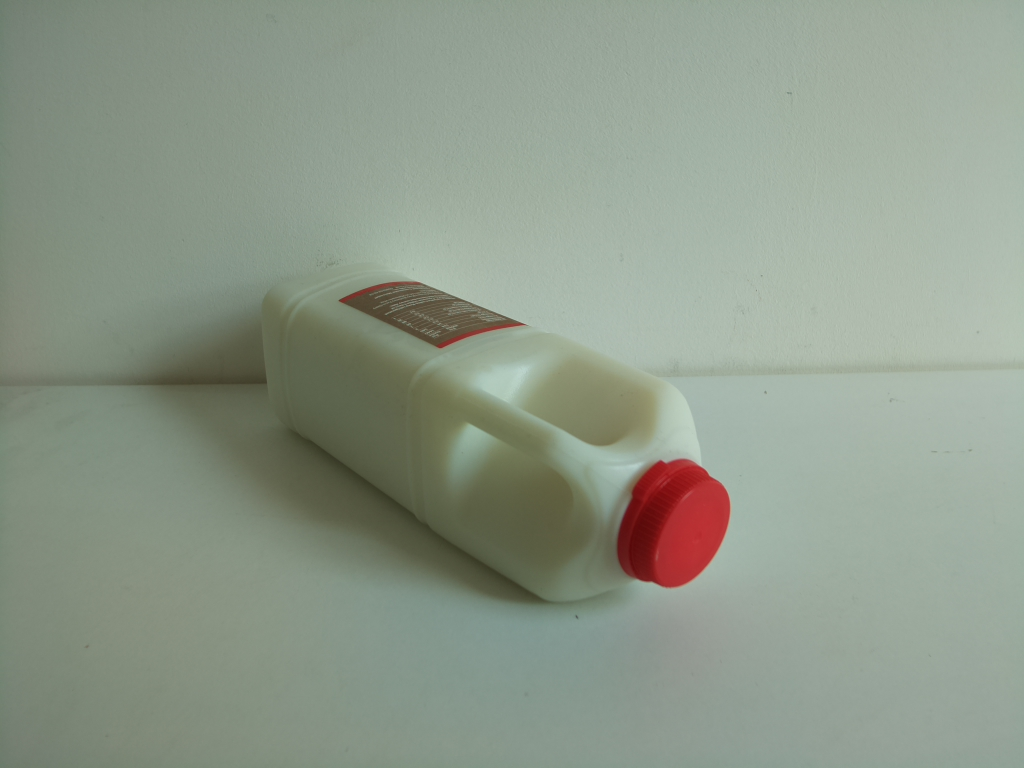milk: (254, 254, 736, 612)
